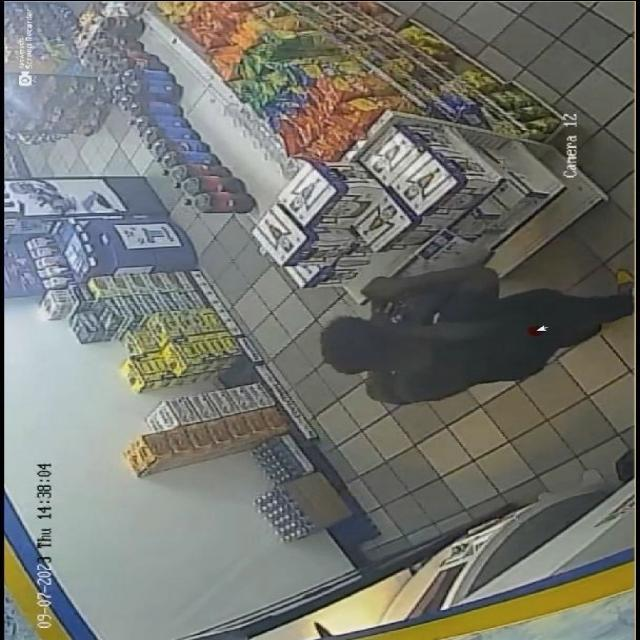Shoplifting: (286, 240, 640, 431)
